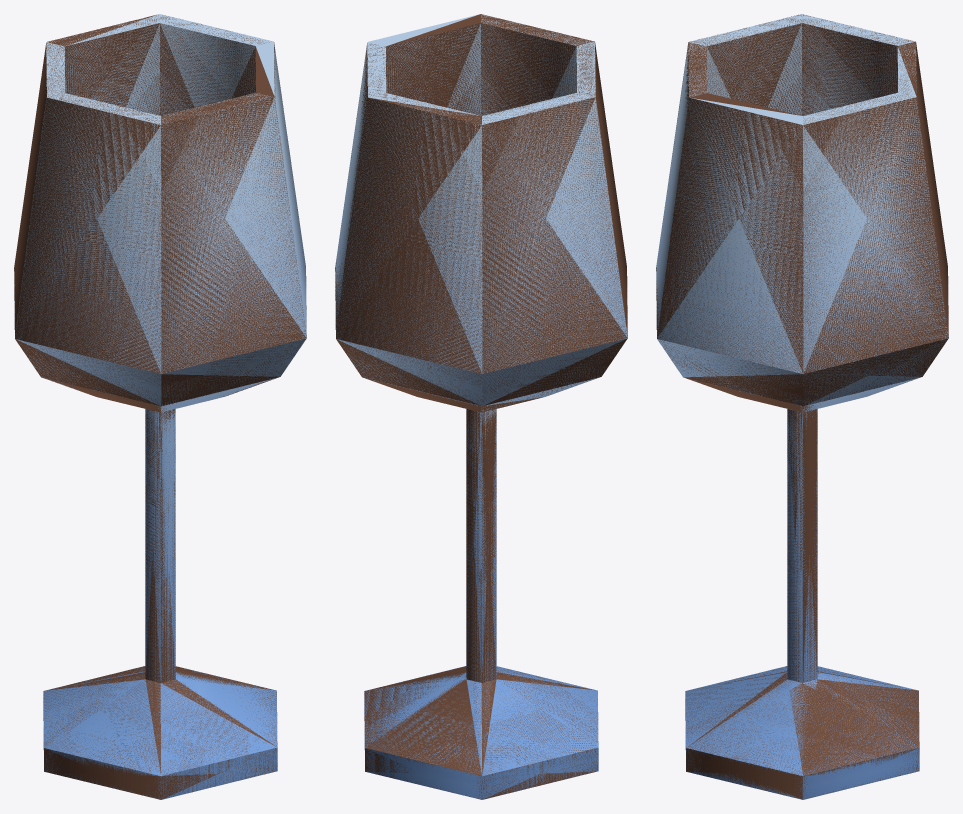
Rendered from glass-wine.fbx.
3 renders of one model, left to right at view 1: azimuth 30°, elevation 25°; view 2: azimuth 150°, elevation 25°; view 3: azimuth 270°, elevation 25°, orthographic.
Visible parts, largest first — view 1: glass-wine; view 2: glass-wine; view 3: glass-wine.
Boxes of the visible parts, <box> form: glass-wine: <box>14,14,306,799</box>; glass-wine: <box>335,14,627,799</box>; glass-wine: <box>656,14,948,799</box>.
Bounding box in the file's own units: 0.0567 × 0.0492 × 0.125.
